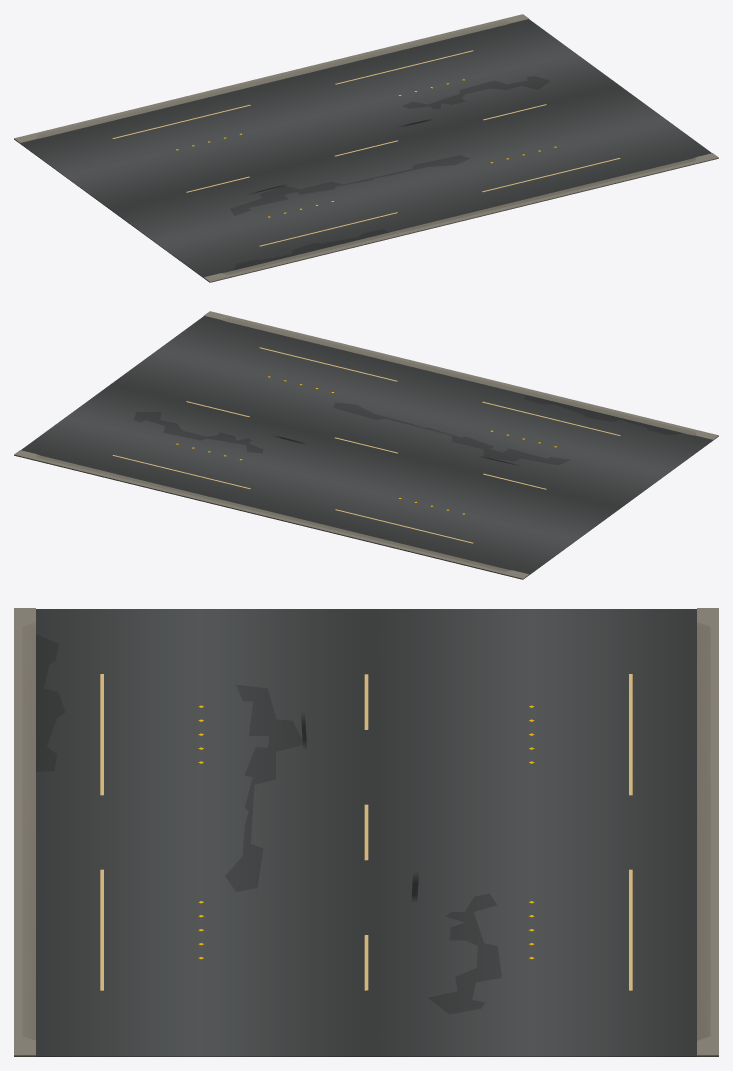
The model's file is tp_runway_05a.glb.
The picture shows the model from 3 angles, top to bottom: view 1: azimuth 30°, elevation 25°; view 2: azimuth 150°, elevation 25°; view 3: azimuth 270°, elevation 25°; orthographic projection. The views are drawn at different scales.
Parts seen in each view (by area): view 1: TP_Runway_05A; view 2: TP_Runway_05A; view 3: TP_Runway_05A.
Part boxes in pixels (<box>): TP_Runway_05A: <box>14,14,718,282</box>; TP_Runway_05A: <box>14,311,718,579</box>; TP_Runway_05A: <box>14,608,718,1056</box>.
Bounding box in the file's own units: 96 × 0.2 × 64.
1 material, 1 textured.
